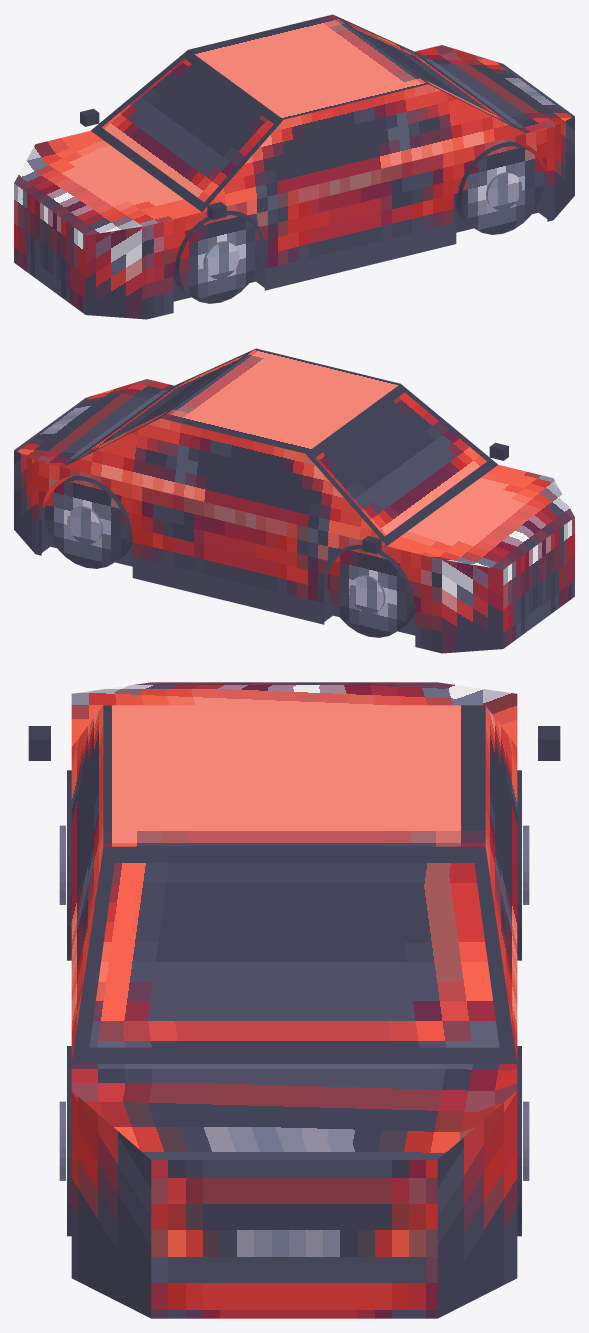
Rendered from car-25-v1.glb.
3 renders of one model, top to bottom at view 1: azimuth 30°, elevation 25°; view 2: azimuth 150°, elevation 25°; view 3: azimuth 270°, elevation 25°, orthographic. The views are drawn at different scales.
Parts seen in each view (by area): view 1: Passenger-body-west, Cabin-windows-west, Roof, Windshield-glass, Hood, Front-fascia, Trunk, Front-corner--1, Tire_RL, Tire_FL, Windshield-frame, Rear-window-glass (+7 smaller); view 2: Passenger-body-east, Cabin-windows-east, Roof, Windshield-glass, Hood, Front-fascia, Trunk, Front-corner-1, Tire_RR, Tire_FR, Windshield-frame, Rear-window-glass (+7 smaller); view 3: Rear-window-glass, Roof, Rear-fascia, Trunk, Rear-window-frame, Rear-corner-1, Rear-corner--1, Hood, Cabin-windows-east, Cabin-windows-west, Tire_FL, Tire_FR (+4 smaller).
Boxes of the visible parts, x1=… form: Passenger-body-west: x1=147, y1=126, x2=553, y2=319; Cabin-windows-west: x1=202, y1=84, x2=525, y2=212; Roof: x1=188, y1=14, x2=427, y2=119; Windshield-glass: x1=102, y1=58, x2=273, y2=202; Hood: x1=14, y1=131, x2=201, y2=235; Front-fascia: x1=14, y1=183, x2=85, y2=314; Trunk: x1=415, y1=45, x2=574, y2=132; Front-corner--1: x1=85, y1=225, x2=146, y2=319; Tire_RL: x1=456, y1=142, x2=544, y2=234; Tire_FL: x1=173, y1=211, x2=261, y2=303; Windshield-frame: x1=91, y1=50, x2=283, y2=211; Rear-window-glass: x1=343, y1=20, x2=513, y2=125; Passenger-body-east: x1=35, y1=460, x2=441, y2=653; Cabin-windows-east: x1=63, y1=418, x2=386, y2=546; Roof: x1=161, y1=348, x2=400, y2=453; Windshield-glass: x1=315, y1=392, x2=486, y2=536; Hood: x1=387, y1=465, x2=574, y2=569; Front-fascia: x1=503, y1=517, x2=574, y2=648; Trunk: x1=14, y1=379, x2=173, y2=466; Front-corner-1: x1=442, y1=559, x2=503, y2=653; Tire_RR: x1=44, y1=476, x2=132, y2=568; Tire_FR: x1=327, y1=545, x2=415, y2=637; Windshield-frame: x1=305, y1=384, x2=497, y2=545; Rear-window-glass: x1=75, y1=354, x2=245, y2=459; Rear-window-glass: x1=89, y1=863, x2=499, y2=1047; Roof: x1=103, y1=705, x2=485, y2=846; Rear-fascia: x1=151, y1=1160, x2=437, y2=1318; Trunk: x1=71, y1=1064, x2=517, y2=1159; Rear-window-frame: x1=71, y1=846, x2=517, y2=1063; Rear-corner-1: x1=437, y1=1091, x2=517, y2=1318; Rear-corner--1: x1=71, y1=1091, x2=151, y2=1318; Hood: x1=71, y1=682, x2=517, y2=746; Cabin-windows-east: x1=485, y1=706, x2=517, y2=1062; Cabin-windows-west: x1=71, y1=706, x2=103, y2=1062; Tire_FL: x1=67, y1=770, x2=71, y2=960; Tire_FR: x1=517, y1=770, x2=521, y2=960.
Bounding box in the file's own units: 71 × 22 × 33.4.
Materials: 1 (1 with a texture image).
